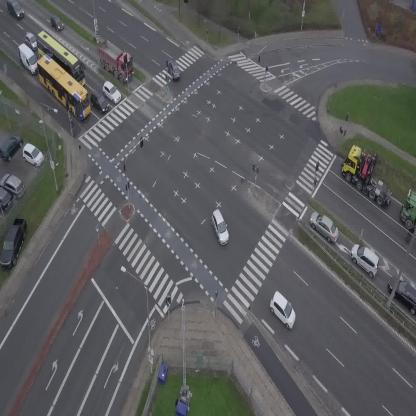bicycle: (68, 118, 75, 134)
bus: (29, 51, 100, 123), (26, 28, 95, 91)
car: (263, 290, 304, 331), (345, 240, 387, 280), (304, 209, 345, 246), (208, 208, 231, 247), (85, 89, 113, 116), (98, 80, 125, 105), (165, 58, 183, 82), (22, 31, 42, 52), (47, 13, 66, 33)
lorry: (333, 138, 397, 218), (90, 35, 142, 85), (12, 41, 43, 77), (400, 189, 416, 232)
